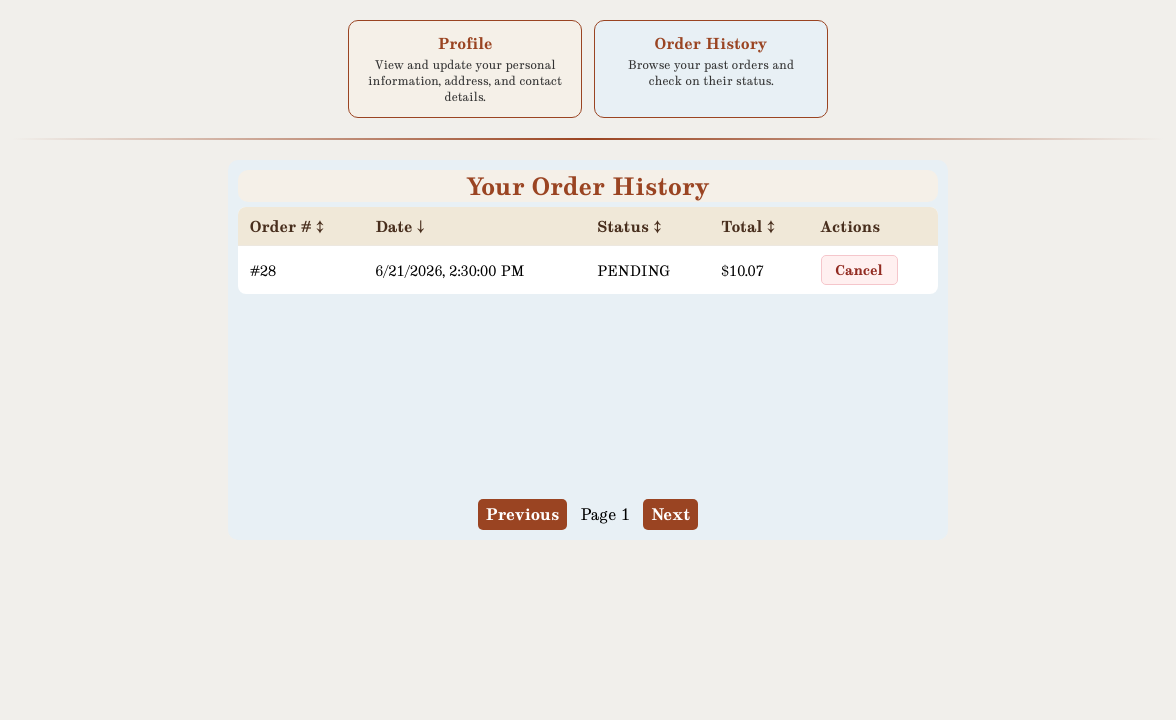
Test case: Order History Page › clicking an order navigates to order detail page
This screenshot has width=1176, height=720.
Click the row "#28 6/21/2026, 2:30:00 PM PENDING $10.07 Cancel". click: coordinates (588, 270)
box: [238,246,938,294]
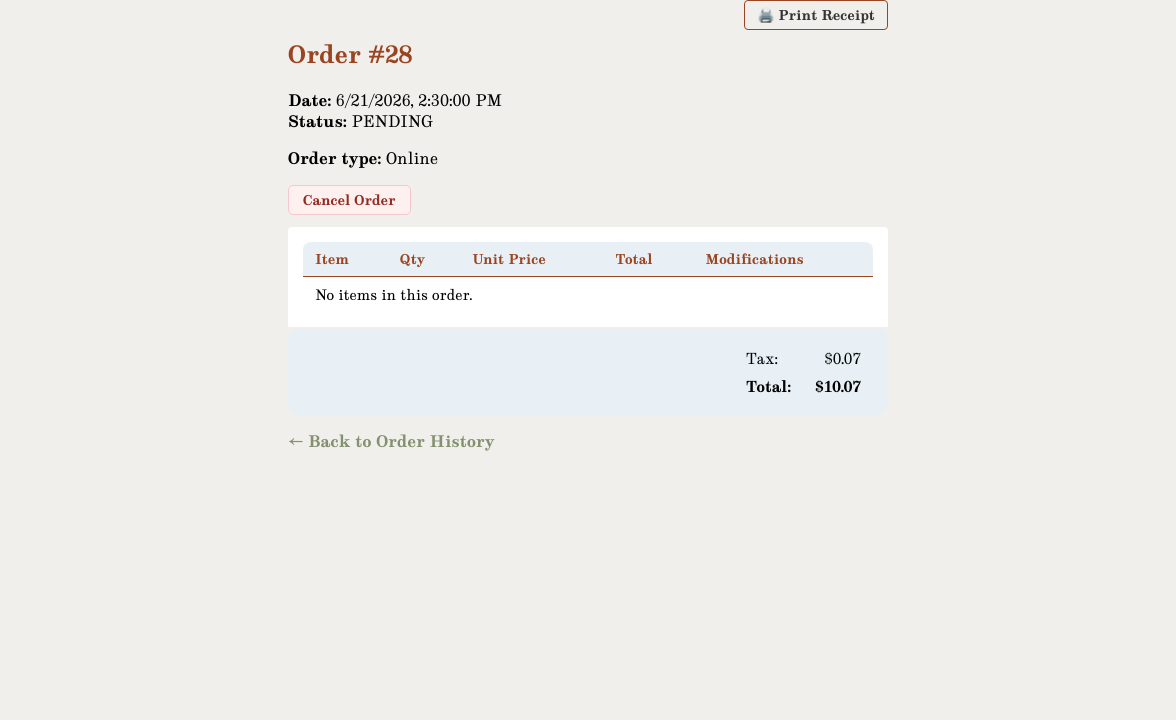
Expected: the heading "Order #28" is shown, [288,38,412,70]
